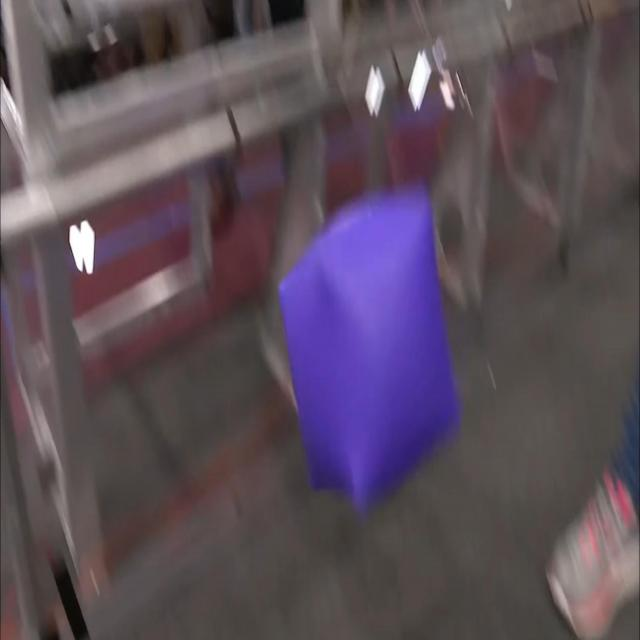frc_cube: (278, 193, 460, 504)
